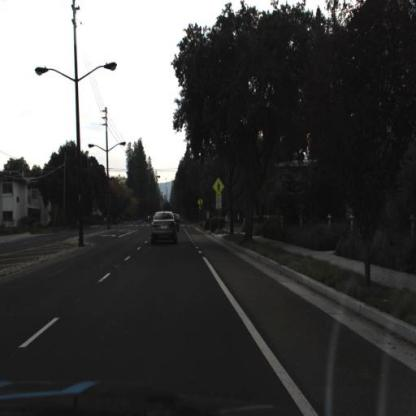car: (150, 209, 180, 246), (172, 208, 184, 238)
